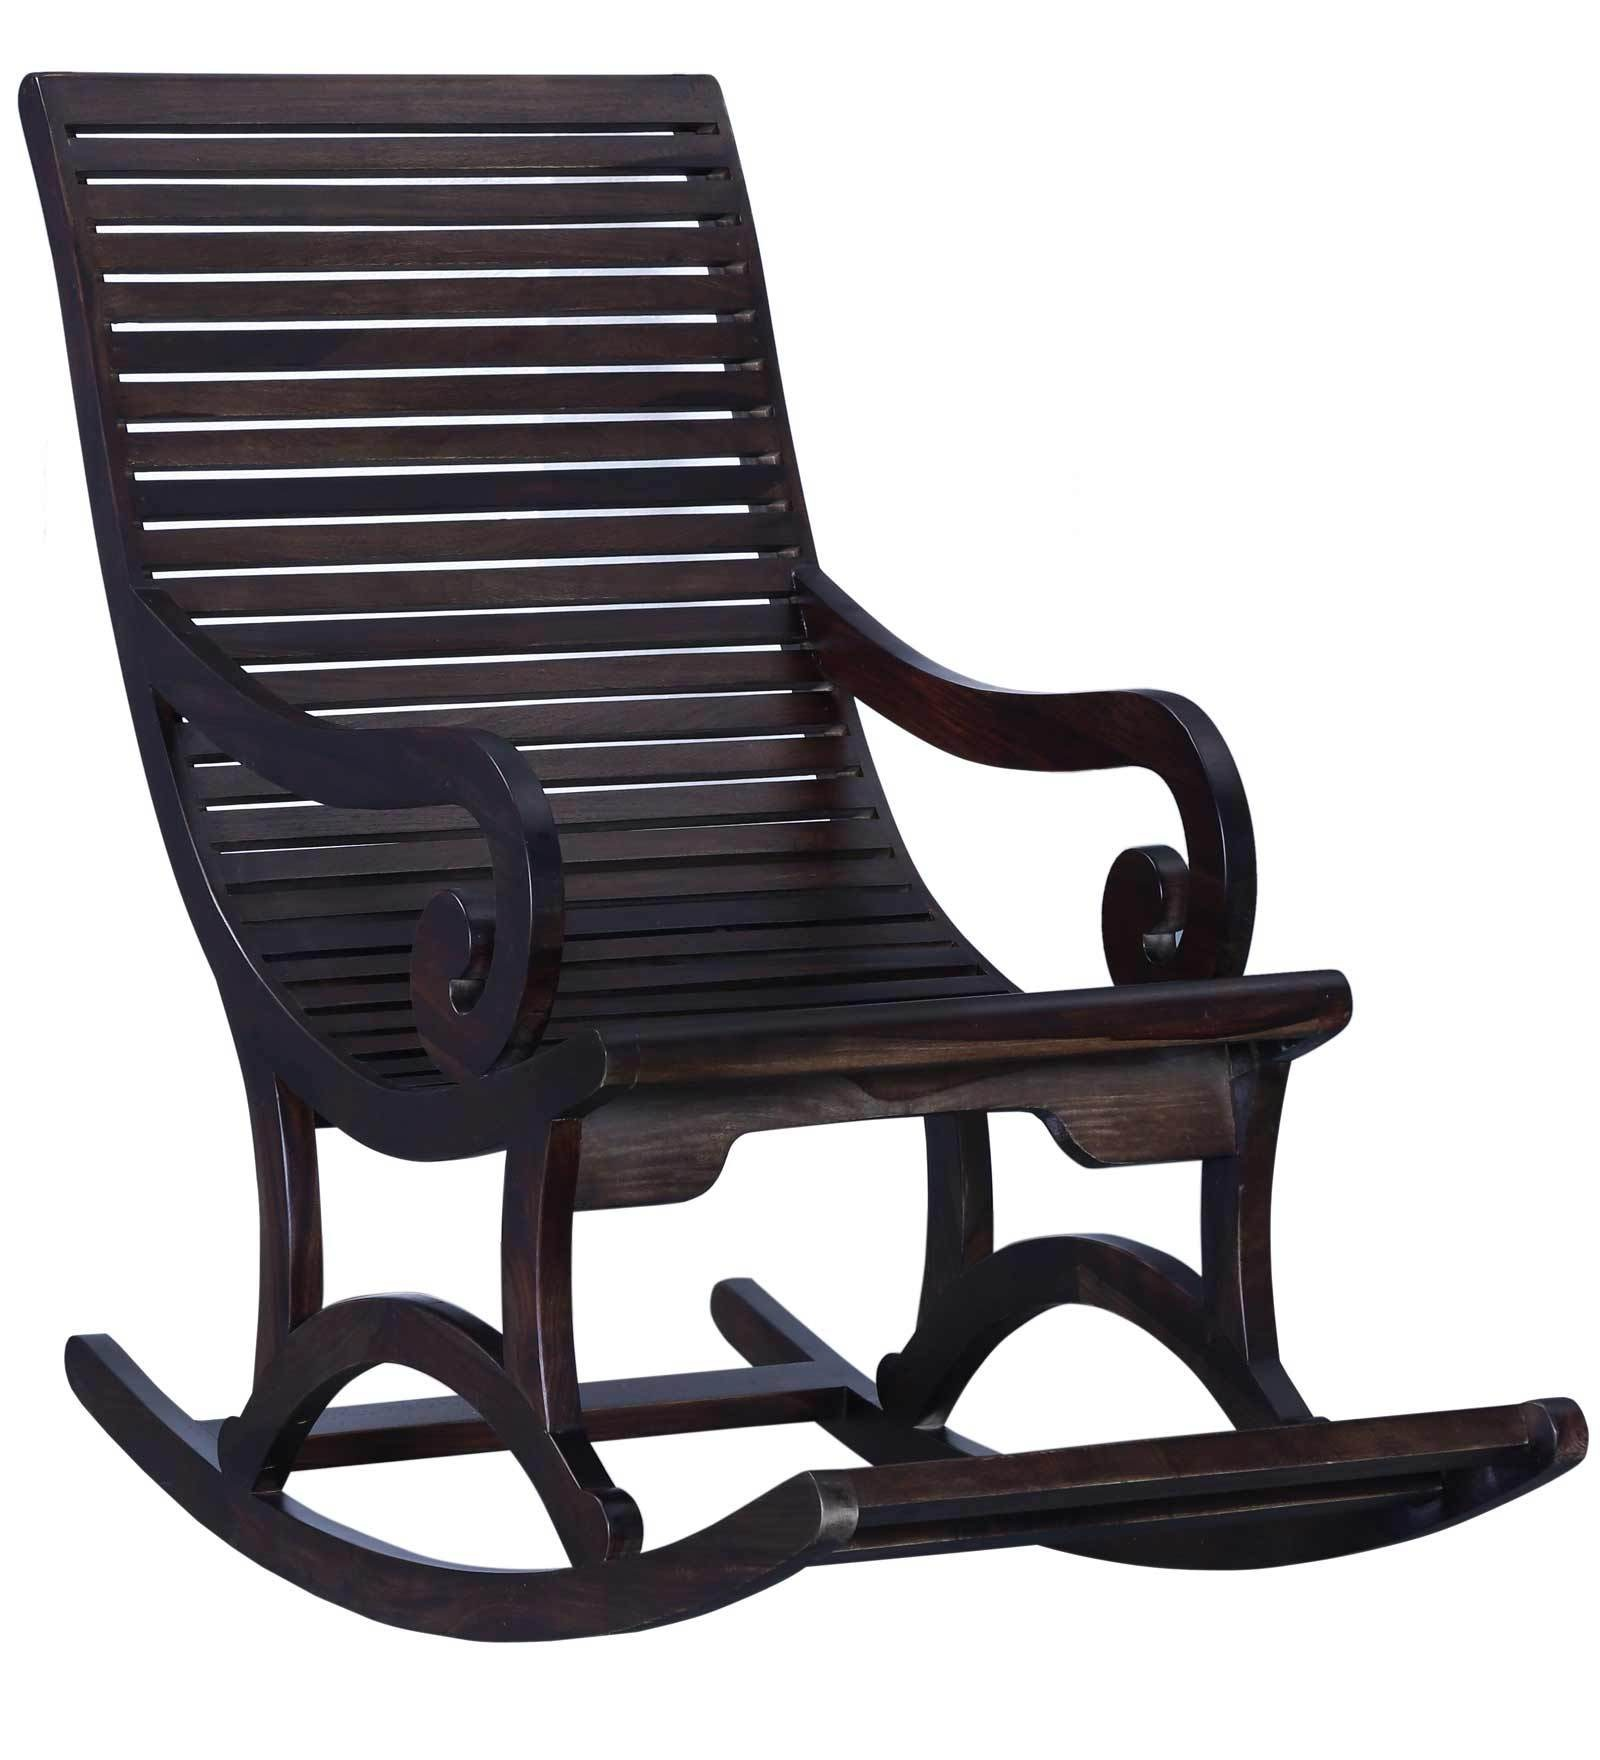Wellesley Rocking Chair in Warm Chestnut Finish by Amberville: (11, 54, 1589, 1697)
